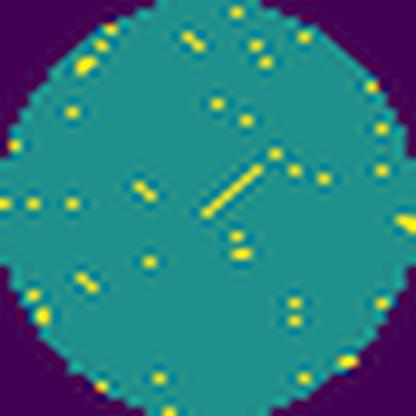Scratch: (196, 159, 271, 220)
